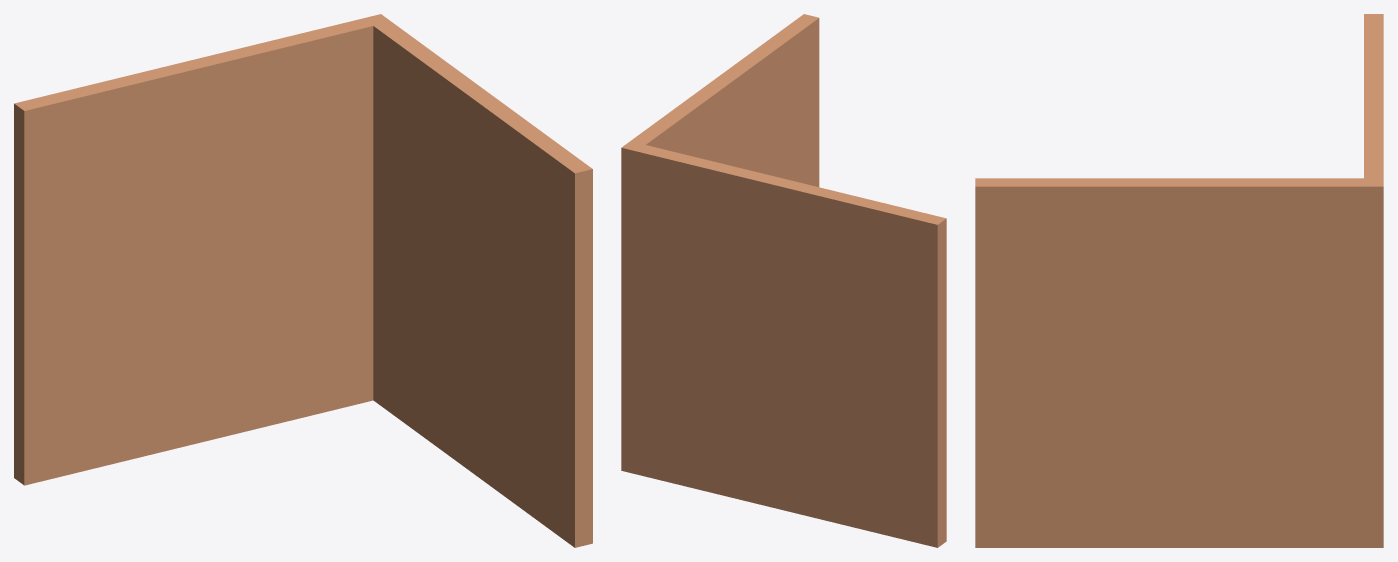
The model's file is Wal_4_Corner_A.fbx.
The picture shows the model from 3 angles, left to right: view 1: azimuth 30°, elevation 25°; view 2: azimuth 150°, elevation 25°; view 3: azimuth 270°, elevation 25°; orthographic projection. The views are drawn at different scales.
Visible parts, largest first — view 1: polySurface25; view 2: polySurface25; view 3: polySurface25.
Boxes of the visible parts, x1,y1,x2,y2 form: polySurface25: [14, 14, 592, 547]; polySurface25: [621, 14, 946, 547]; polySurface25: [975, 14, 1383, 547].
Bounding box in the file's own units: 4.1 × 4 × 4.1.
Materials: 1 (1 with a texture image).
